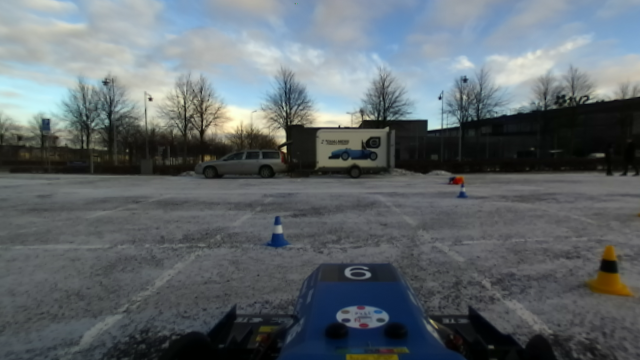blue: (265, 214, 292, 249), (454, 179, 469, 202)
yellow: (584, 242, 636, 302)
